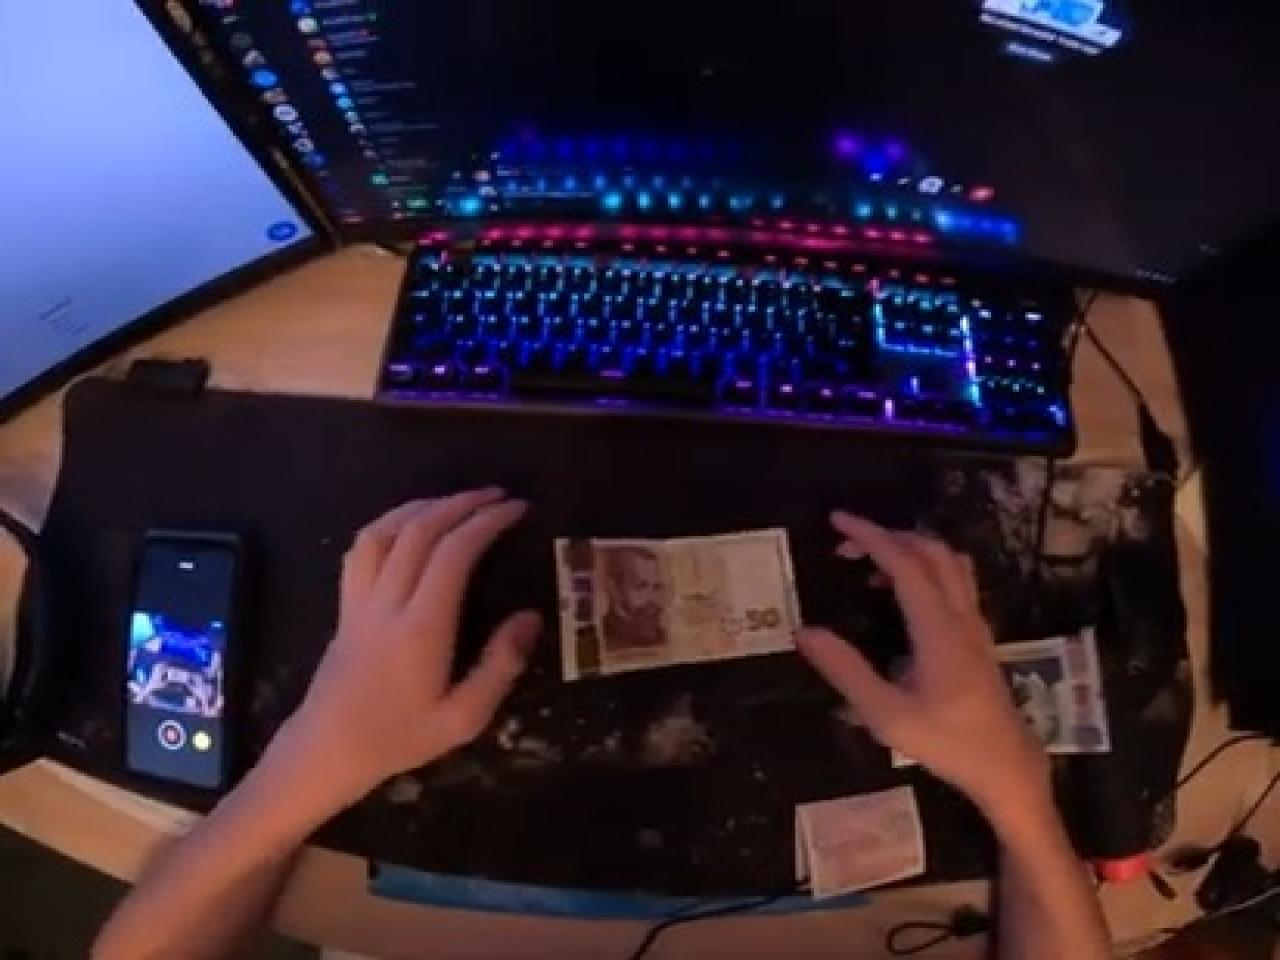50leva: (556, 528, 795, 680)
